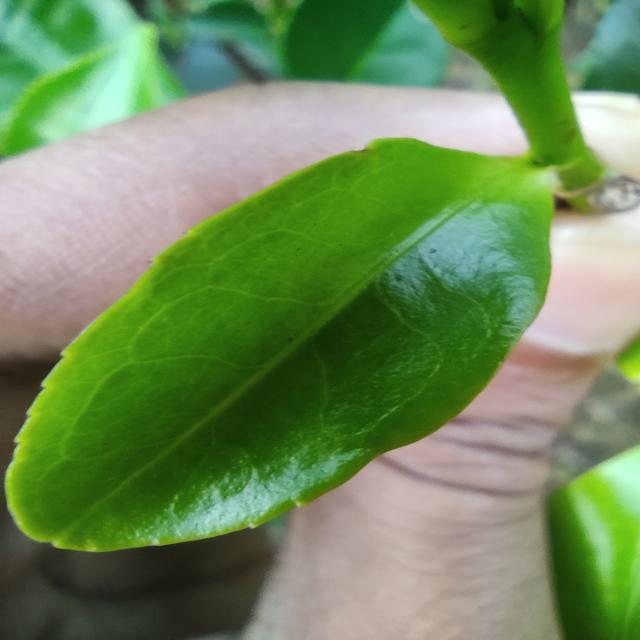Category C 4-7 days: (7, 99, 598, 575)
